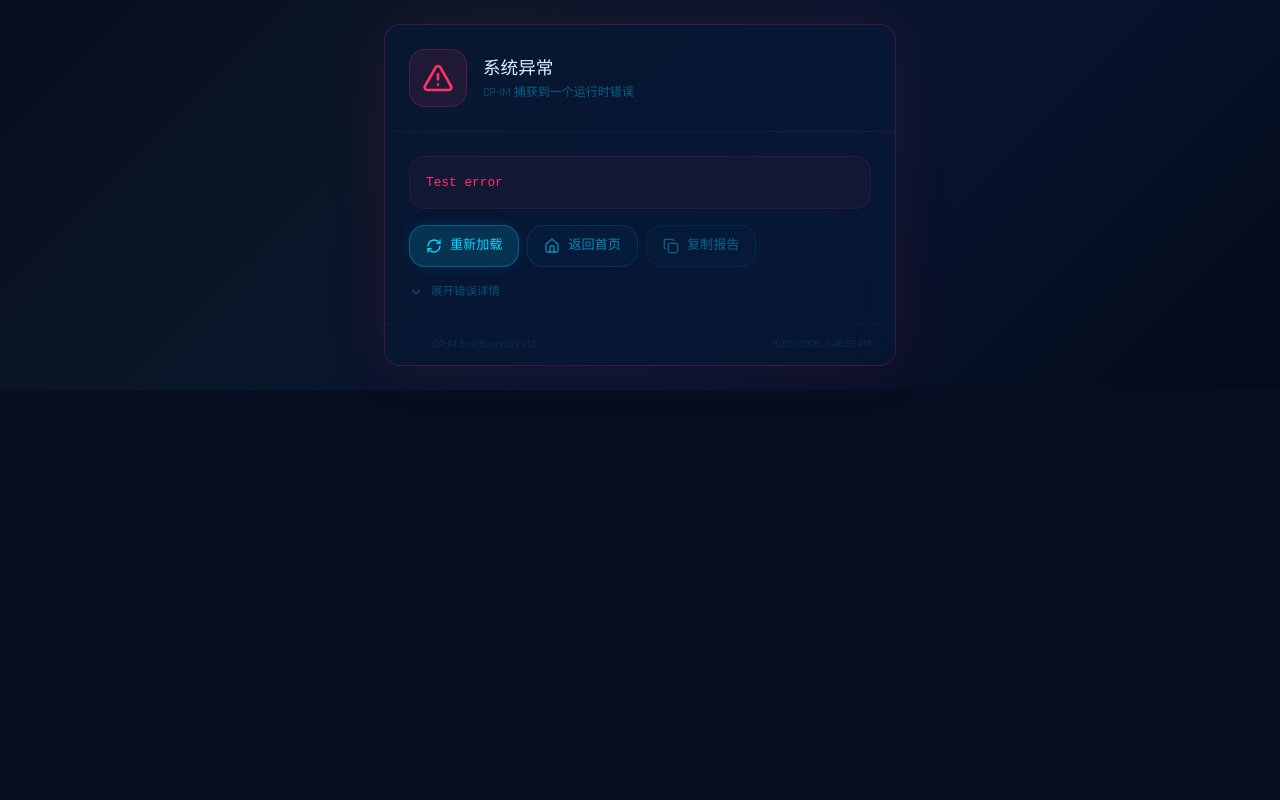
Test: ErrorBoundary › should toggle error details when clicking expand button
Click the button "展开错误详情". click: (455, 292)
box: [409, 283, 500, 300]
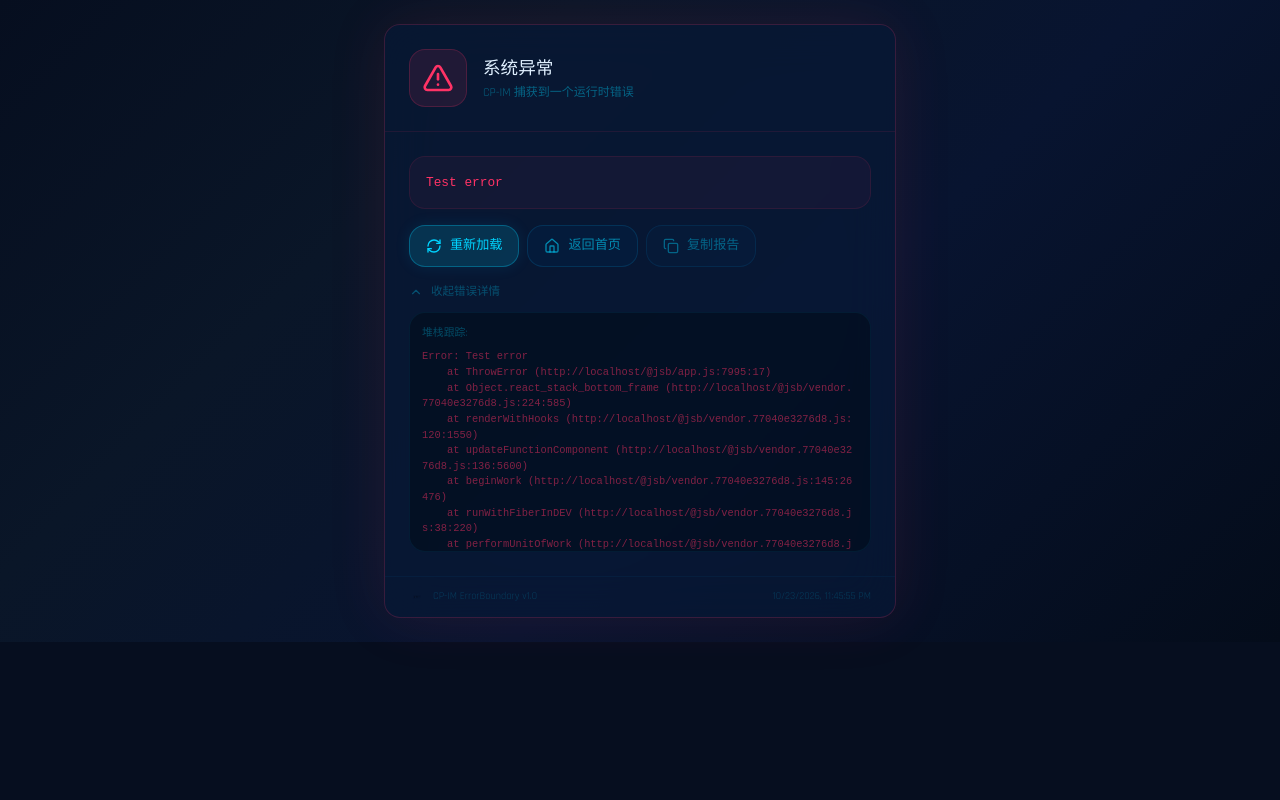
Result: the button "收起错误详情" is shown
Result: the text "堆栈跟踪:" is shown at [422, 326, 468, 340]
Click the button "收起错误详情". click: (455, 292)
box: [409, 283, 500, 300]
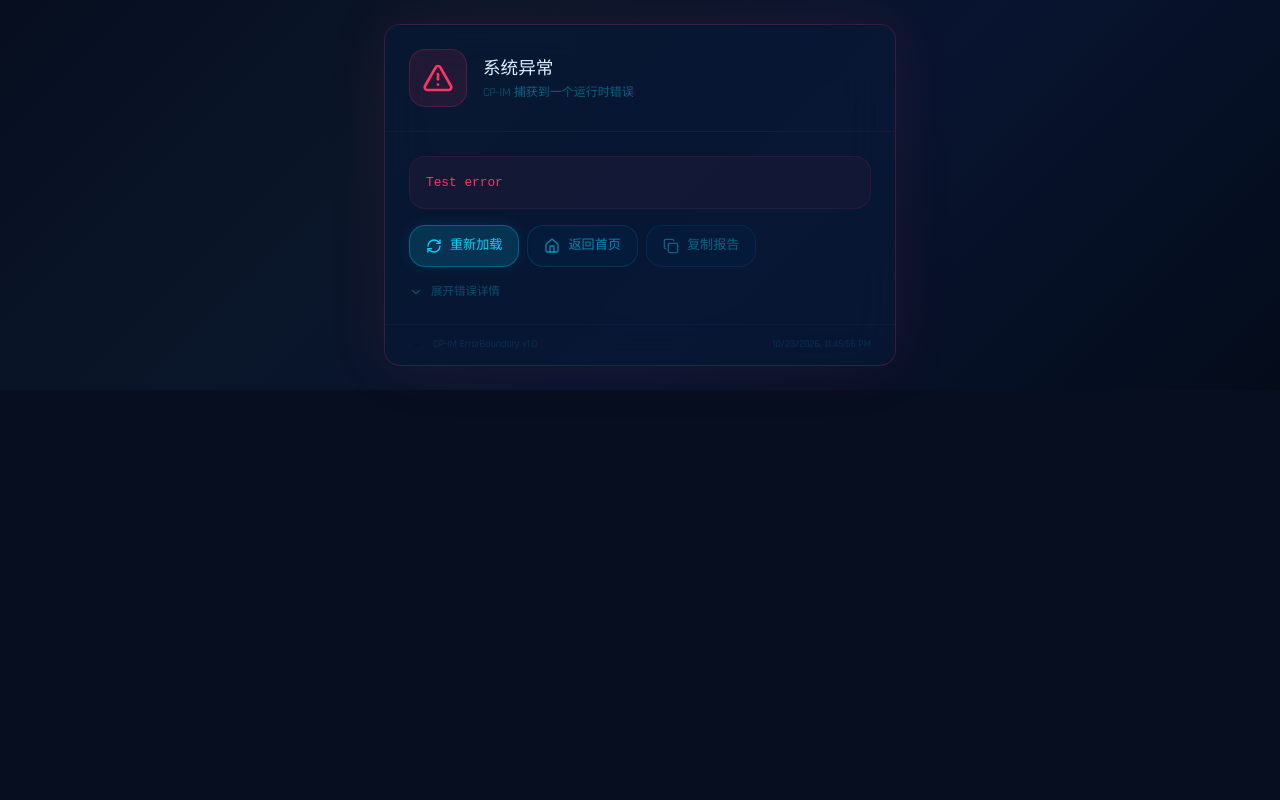
Result: the button "展开错误详情" is shown at [409, 283, 500, 300]
